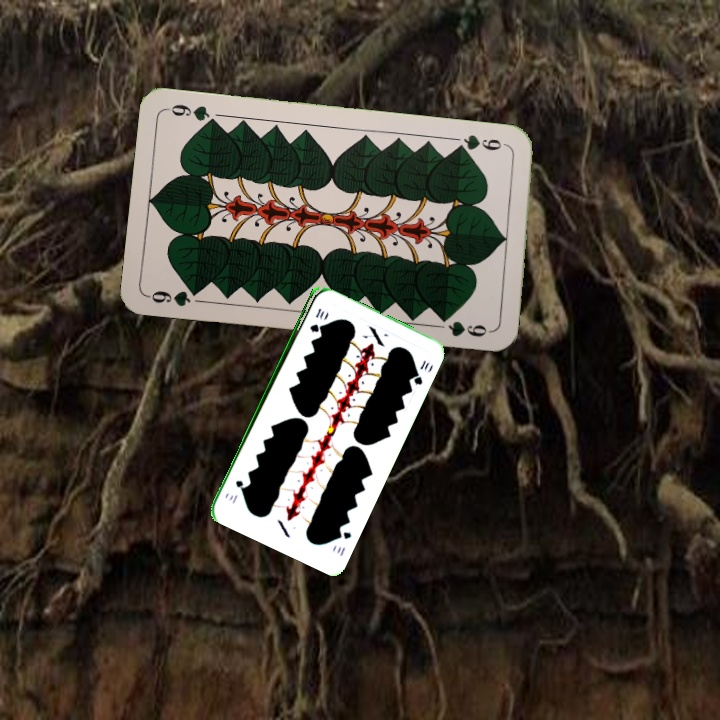G10: (332, 525, 354, 558), (306, 304, 327, 335)
G9: (144, 284, 204, 309), (452, 130, 512, 154)
